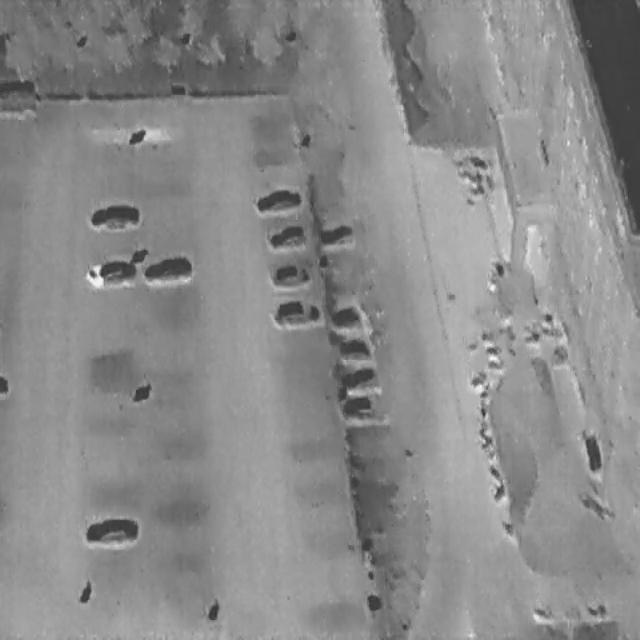Car: (271, 295, 320, 327), (142, 252, 191, 282), (88, 202, 140, 230), (86, 260, 135, 288), (85, 518, 137, 544), (254, 185, 300, 213), (339, 391, 380, 419), (267, 222, 307, 248), (341, 362, 378, 388), (271, 261, 309, 285), (319, 222, 353, 248), (330, 305, 362, 327), (340, 338, 371, 360), (0, 374, 7, 395)
